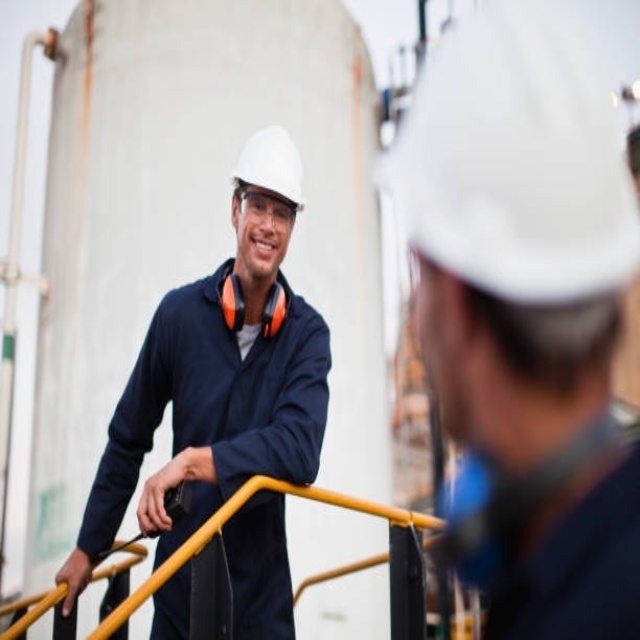Gafas: (236, 190, 296, 234)
Sin_guantes: (137, 450, 188, 538), (48, 547, 91, 615)
Sin_mascara: (246, 231, 282, 270)
